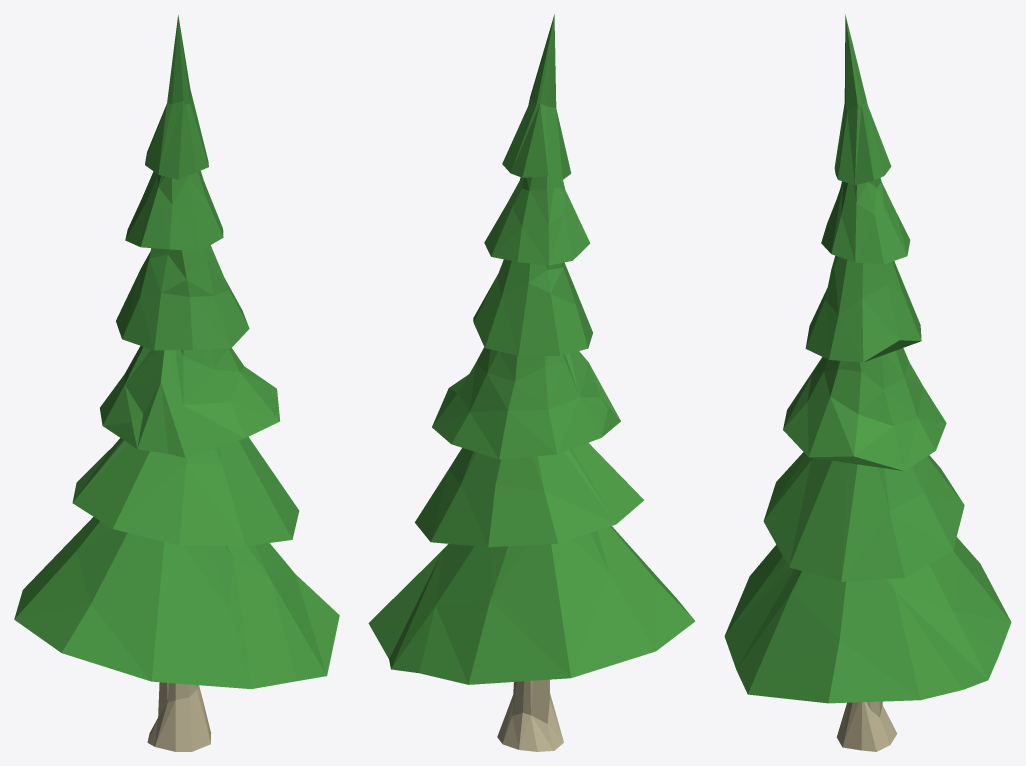
File: tree.gltf
3 renders of one model, left to right at view 1: azimuth 30°, elevation 25°; view 2: azimuth 150°, elevation 25°; view 3: azimuth 270°, elevation 25°, orthographic. The views are drawn at different scales.
Parts seen in each view (by area): view 1: LowPolyFirTree_01.015; view 2: LowPolyFirTree_01.015; view 3: LowPolyFirTree_01.015.
Boxes of the visible parts, bbox=[...] form: LowPolyFirTree_01.015: bbox=[14, 15, 339, 751]; LowPolyFirTree_01.015: bbox=[368, 14, 695, 751]; LowPolyFirTree_01.015: bbox=[724, 14, 1011, 751].
Size of the model in its own units: 353 by 868 by 314.
